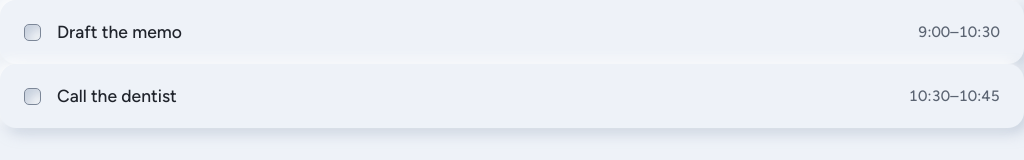
Test case: PlanChecklist › under reduced motion the checked row is hidden instantly, with no dissolve animation
Click the checkbox named "Draft the memo". click: (32, 32)
box: [16,16,48,48]
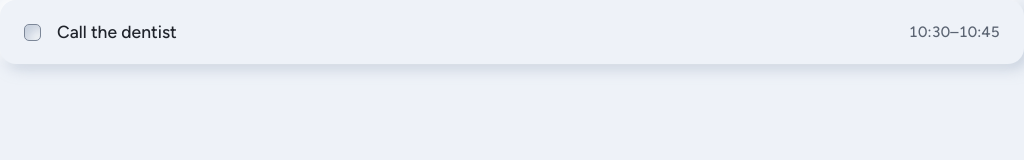
Check: the text "Draft the memo 9:00–10:30" is gone
